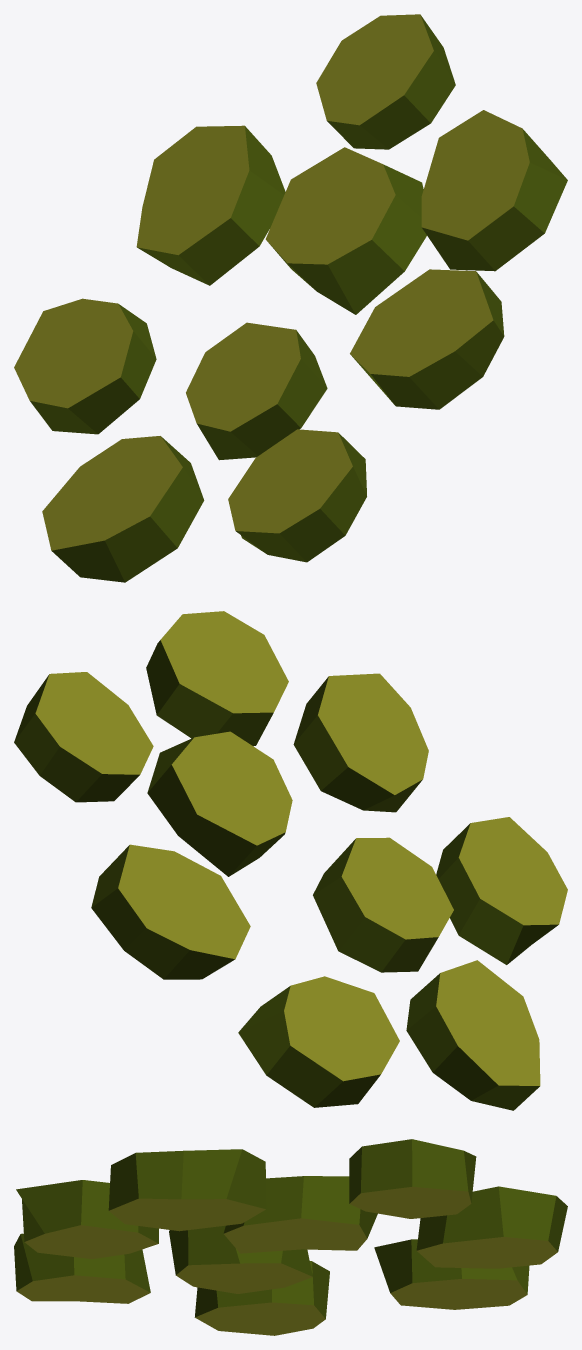
File: Cucumber.fbx
3 views of the same model, one above another, from view 1: azimuth 30°, elevation 25°; view 2: azimuth 150°, elevation 25°; view 3: azimuth 270°, elevation 25° (orthographic). The views are drawn at different scales.
Visible parts, largest first — view 1: Cucumber; view 2: Cucumber; view 3: Cucumber.
Boxes of the visible parts, bbox=[...] form: Cucumber: bbox=[14, 14, 567, 582]; Cucumber: bbox=[14, 611, 567, 1110]; Cucumber: bbox=[14, 1139, 567, 1335].
Size of the model in its own units: 115 by 97.2 by 126.
